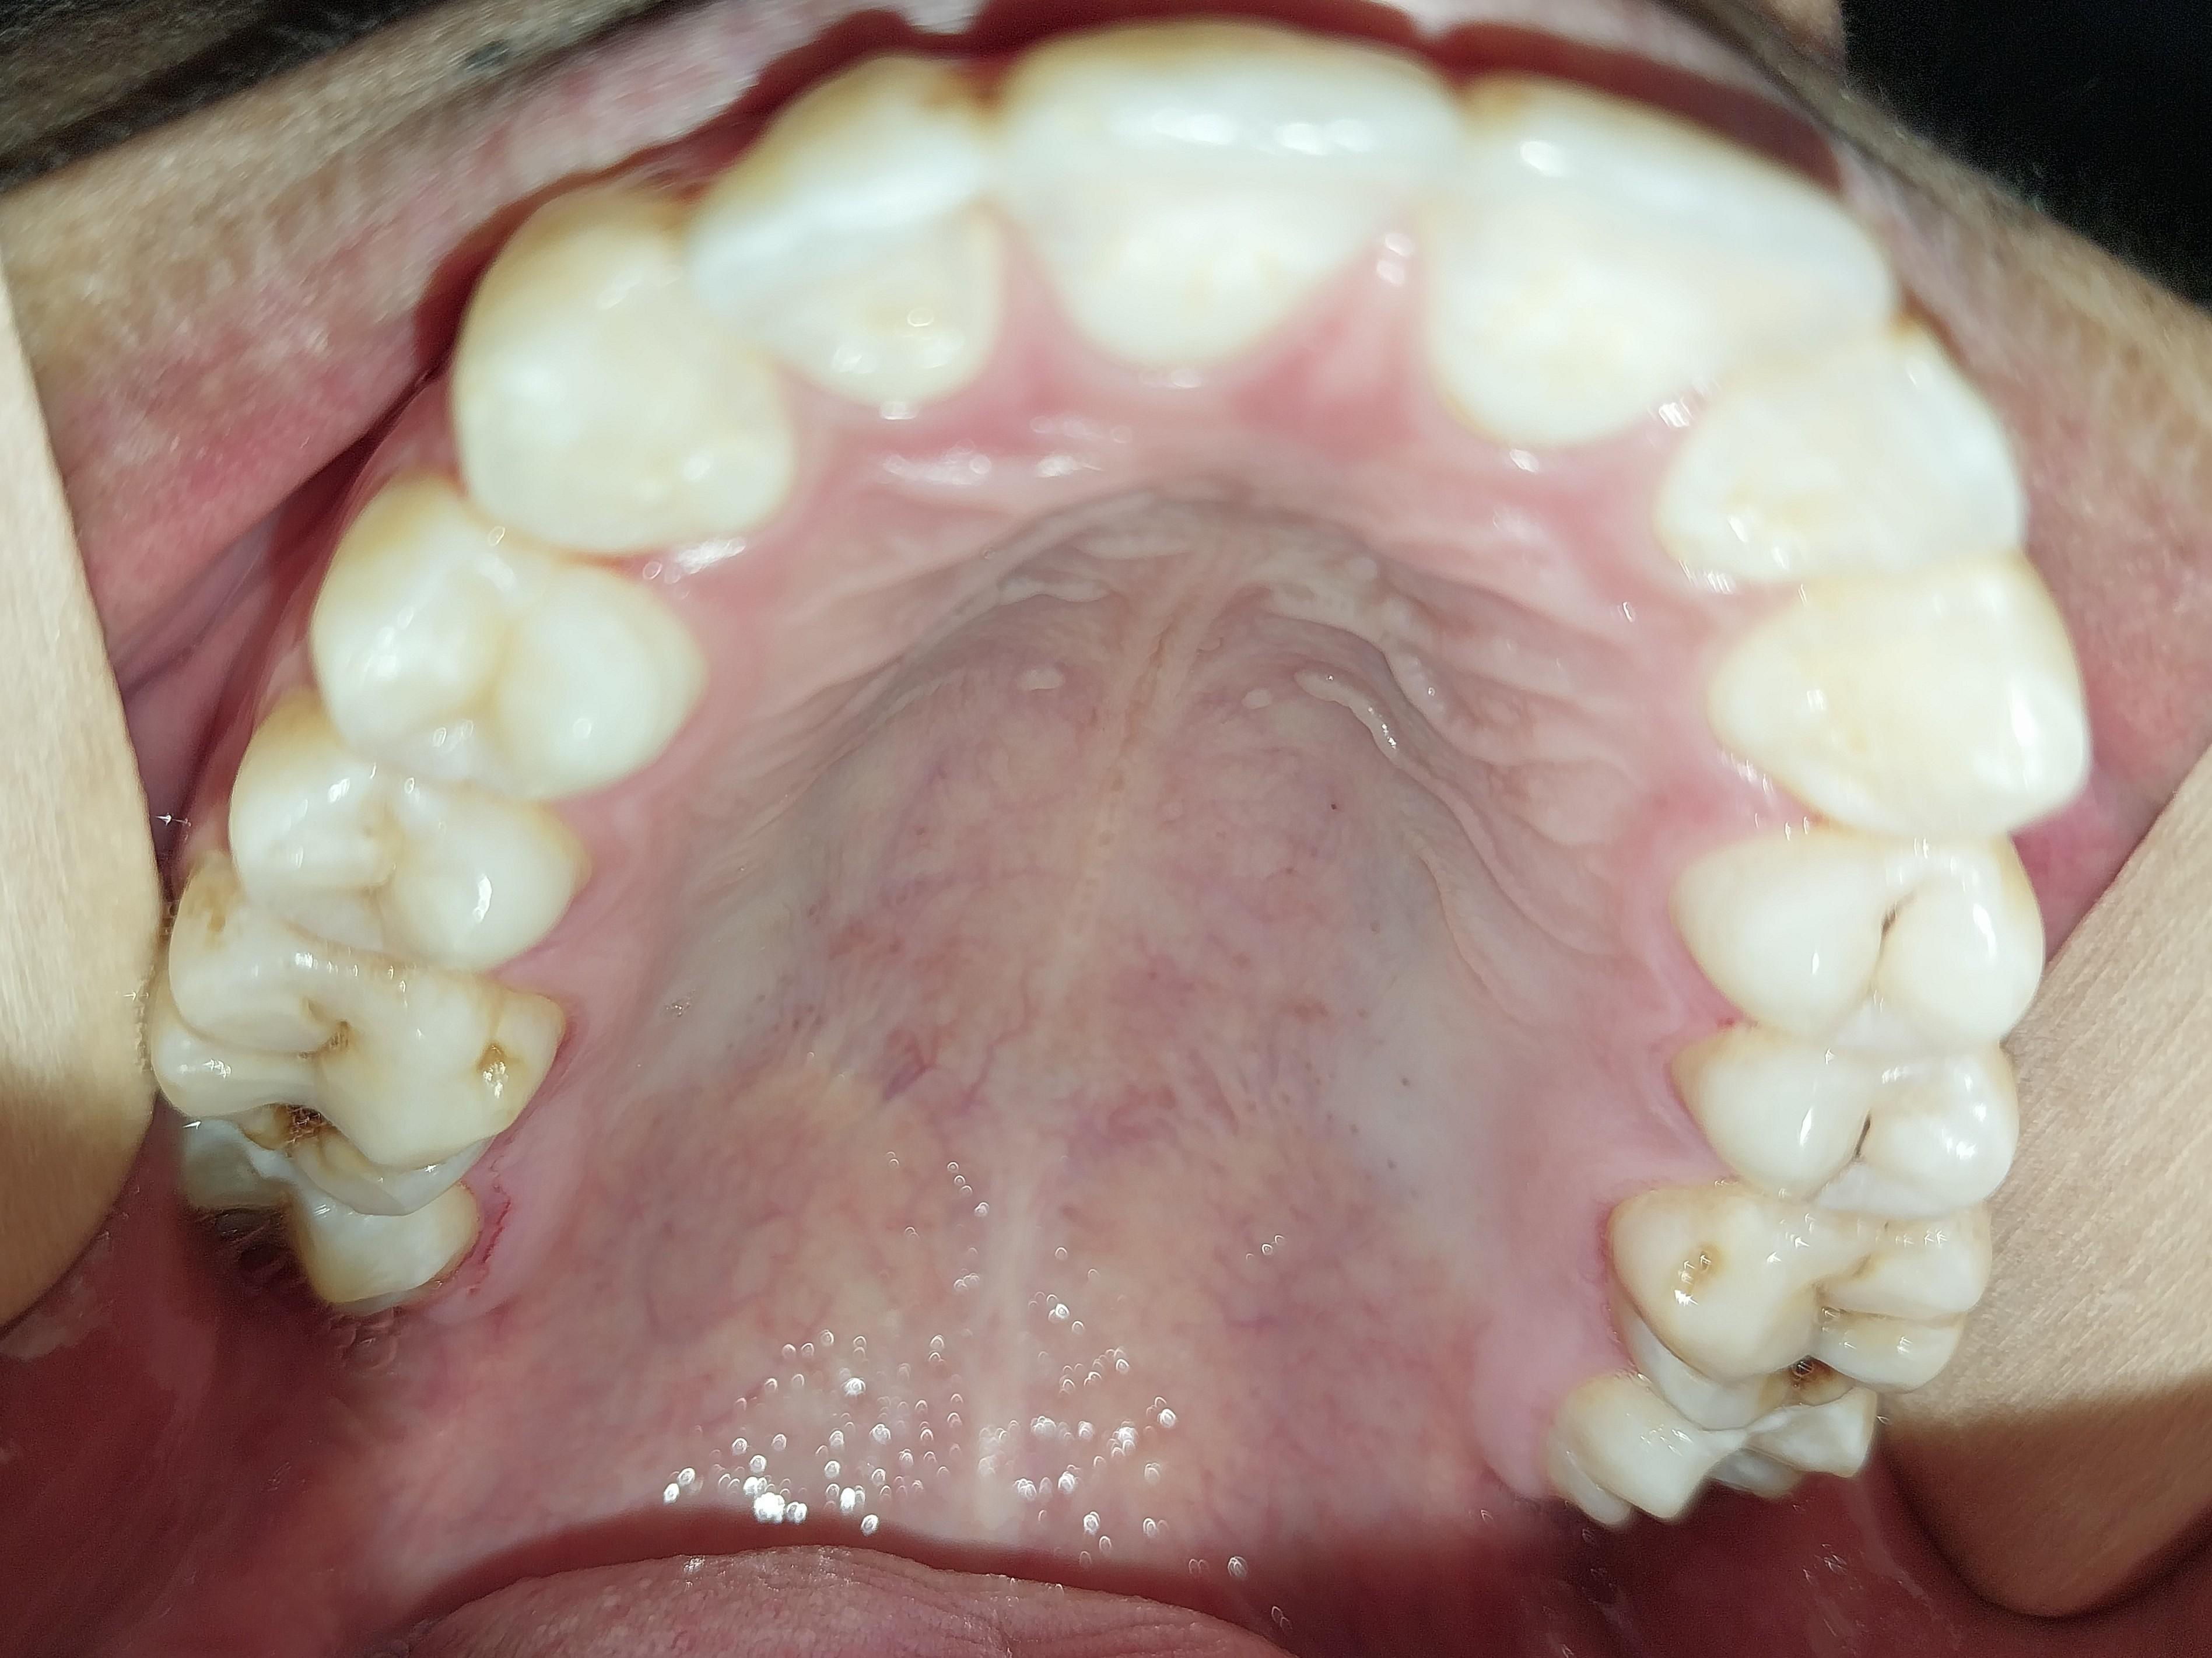D: (143, 896, 566, 1214), (1619, 1179, 2001, 1426), (1695, 817, 2050, 1056), (1671, 1007, 2024, 1214)
